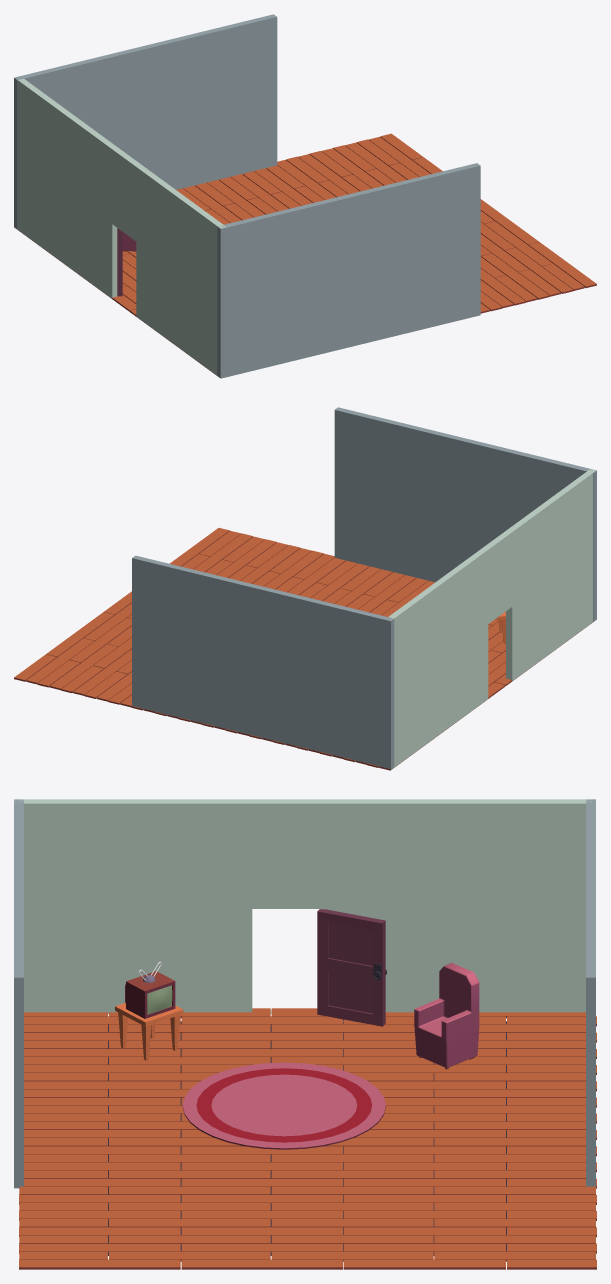
The model's file is house.glb.
3 renders of one model, top to bottom at view 1: azimuth 30°, elevation 25°; view 2: azimuth 150°, elevation 25°; view 3: azimuth 270°, elevation 25°, orthographic. The views are drawn at different scales.
Parts seen in each view (by area): view 1: LeftWall, BackWall, RightWall, Floorboards; view 2: RightWall, BackWall, LeftWall, Floorboards; view 3: Floorboards, BackWall, Rug, Door, Couch, LeftWall, RightWall, Television, Plane.
Boxes of the visible parts, bbox=[...] form: LeftWall: bbox=[217, 163, 480, 378]; BackWall: bbox=[18, 78, 226, 375]; RightWall: bbox=[14, 14, 277, 229]; Floorboards: bbox=[18, 133, 596, 375]; RightWall: bbox=[132, 555, 394, 769]; BackWall: bbox=[388, 469, 595, 767]; LeftWall: bbox=[334, 407, 596, 621]; Floorboards: bbox=[14, 528, 592, 770]; Floorboards: bbox=[19, 1008, 596, 1269]; BackWall: bbox=[15, 799, 591, 1014]; Rug: bbox=[182, 1062, 385, 1149]; Door: bbox=[317, 909, 386, 1026]; Couch: bbox=[414, 963, 479, 1069]; LeftWall: bbox=[14, 799, 23, 1188]; RightWall: bbox=[586, 799, 595, 1186]; Television: bbox=[115, 961, 183, 1060]; Plane: bbox=[108, 1021, 506, 1255].
Bounding box in the file's own units: 5.28 × 2.01 × 5.02.
Materials: 1 (1 with a texture image).
